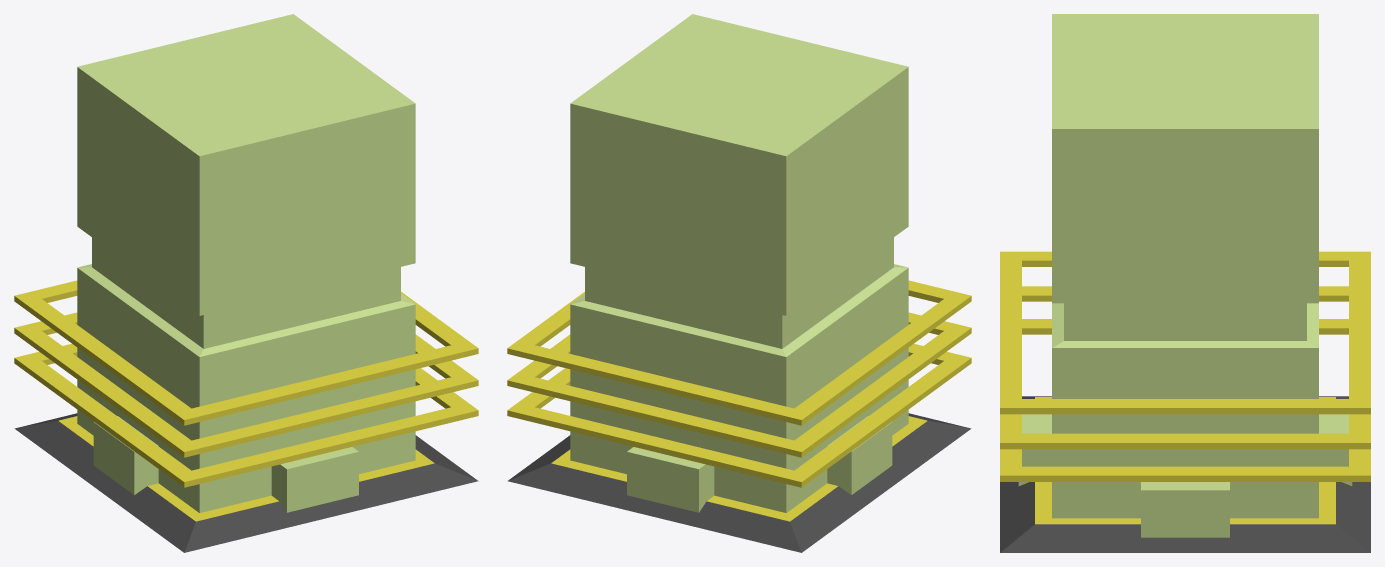
File: cell_disable.gltf
3 renders of one model, left to right at view 1: azimuth 30°, elevation 25°; view 2: azimuth 150°, elevation 25°; view 3: azimuth 270°, elevation 25°, orthographic. The views are drawn at different scales.
Parts seen in each view (by area): view 1: Cube, Plane, Plane.003, Plane.001, Plane.002; view 2: Cube, Plane, Plane.003, Plane.001, Plane.002; view 3: Cube, Plane, Plane.003, Plane.001, Plane.002.
Boxes of the visible parts, box(x1,y1,x2,y2) form: Cube: box(77, 14, 415, 512); Plane: box(14, 413, 478, 552); Plane.003: box(14, 280, 478, 425); Plane.001: box(14, 312, 478, 457); Plane.002: box(14, 344, 478, 487); Cube: box(570, 14, 908, 512); Plane: box(507, 413, 971, 552); Plane.003: box(507, 280, 971, 425); Plane.001: box(507, 312, 971, 457); Plane.002: box(507, 344, 971, 487); Cube: box(1018, 14, 1352, 537); Plane: box(1000, 396, 1370, 552); Plane.003: box(1000, 251, 1370, 414); Plane.001: box(1000, 286, 1370, 449); Plane.002: box(1000, 319, 1370, 481).
Size of what is drawn, in the model's own units: 5 by 6 by 5.
